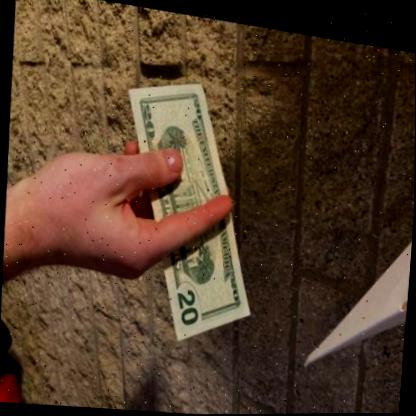twenty-back: (127, 79, 250, 339)
